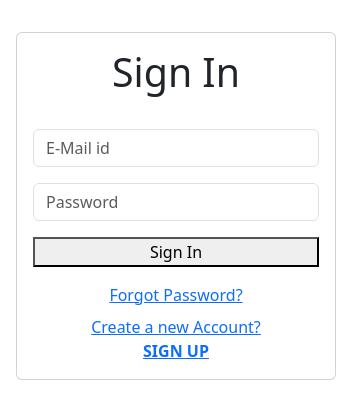
Login Component Tests › 5. Displays error message on failed login
This screenshot has width=353, height=413.
In the field with placeholder "E-Mail id": (176, 148) [33,129,319,167], type "wrong@gmail.com"
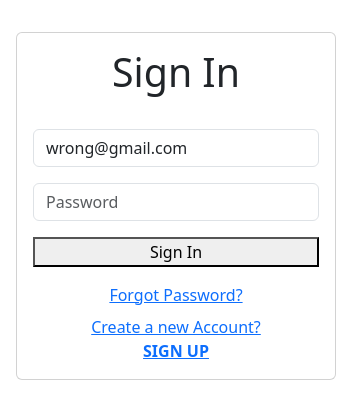
In the password field with placeholder "Password": (176, 202) [33,183,319,221], type "badpass"
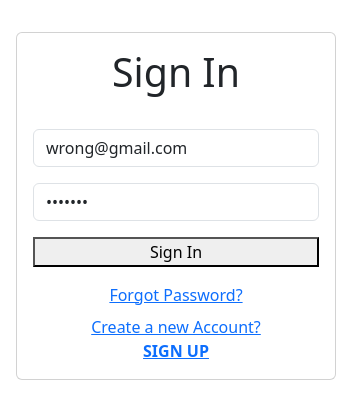
Click the button "Sign In": (176, 252) [33,237,319,267]
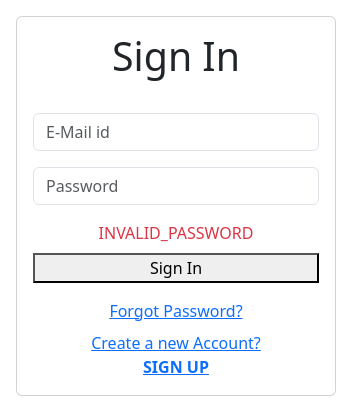
Check: the text "INVALID_PASSWORD" is shown, box [98,222,253,244]
